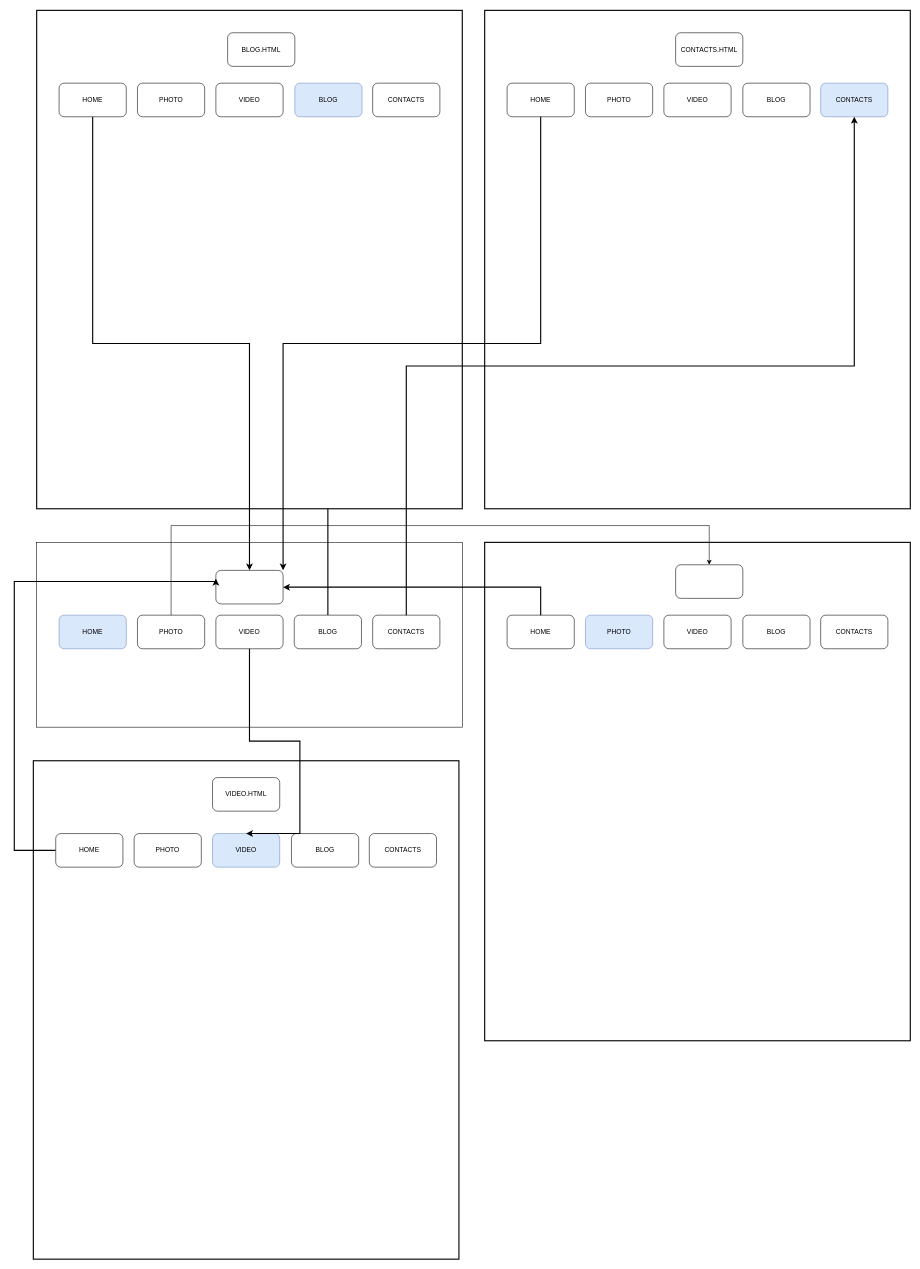
Image size: 920x1269. Some labels were removed from this diagram. The shapes that lost their labels are listed below. From the top down, each one's centre as x and y in pixels, then its label:
At (249,587): "index.html".
At (709,581): "PHOTO.HTML".
